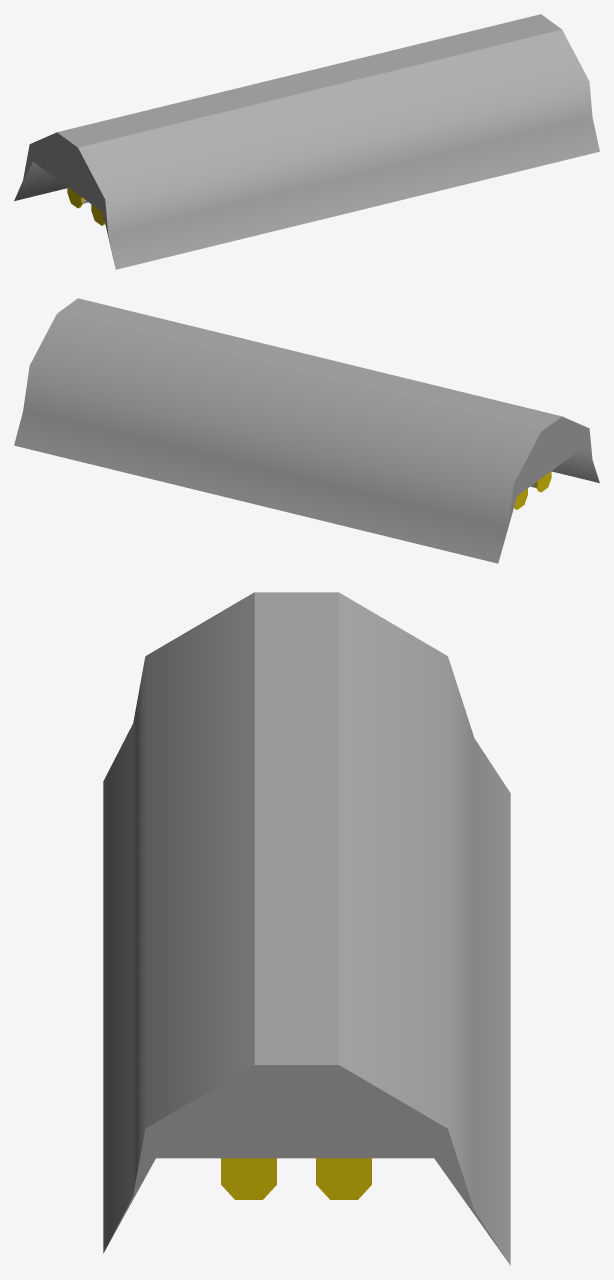
Rendered from LightFixture.fbx.
3 views of the same model, one above another, from view 1: azimuth 30°, elevation 25°; view 2: azimuth 150°, elevation 25°; view 3: azimuth 270°, elevation 25° (orthographic). The views are drawn at different scales.
Parts seen in each view (by area): view 1: group8; view 2: group8; view 3: group8.
Boxes of the visible parts, x1,y1,x2,y2 form: group8: [14, 14, 599, 269]; group8: [14, 298, 599, 563]; group8: [103, 592, 510, 1265].
Bounding box in the file's own units: 11.64 × 2.31 × 4.24.
